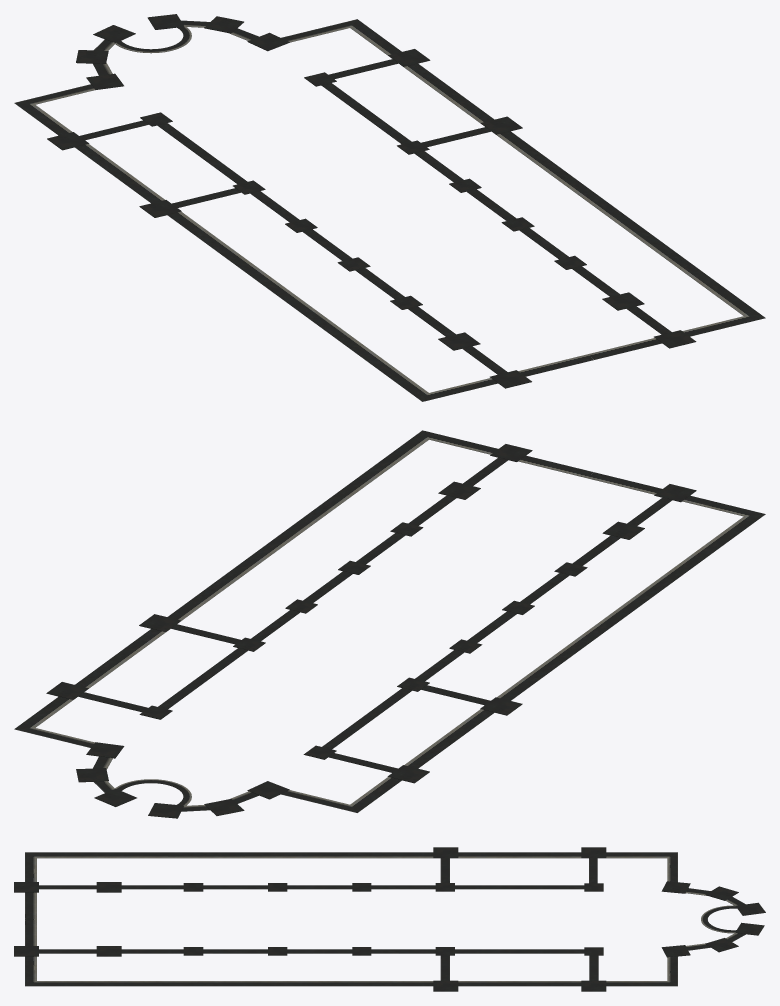
Rendered from Indoor_MdBuild_Church01_Ground_1243_0.fbx.
3 views of the same model, one above another, from view 1: azimuth 30°, elevation 25°; view 2: azimuth 150°, elevation 25°; view 3: azimuth 270°, elevation 25° (orthographic). The views are drawn at different scales.
Visible parts, largest first — view 1: Indoor_MdBuild_Church01_Ground_1243_0; view 2: Indoor_MdBuild_Church01_Ground_1243_0; view 3: Indoor_MdBuild_Church01_Ground_1243_0.
Part boxes in pixels (left/top/right/bottom): Indoor_MdBuild_Church01_Ground_1243_0: left=14, top=14, right=765, bottom=401; Indoor_MdBuild_Church01_Ground_1243_0: left=14, top=430, right=765, bottom=818; Indoor_MdBuild_Church01_Ground_1243_0: left=14, top=847, right=765, bottom=991.
Size of the model in its own units: 32.28 by 0.0503 by 71.42.
